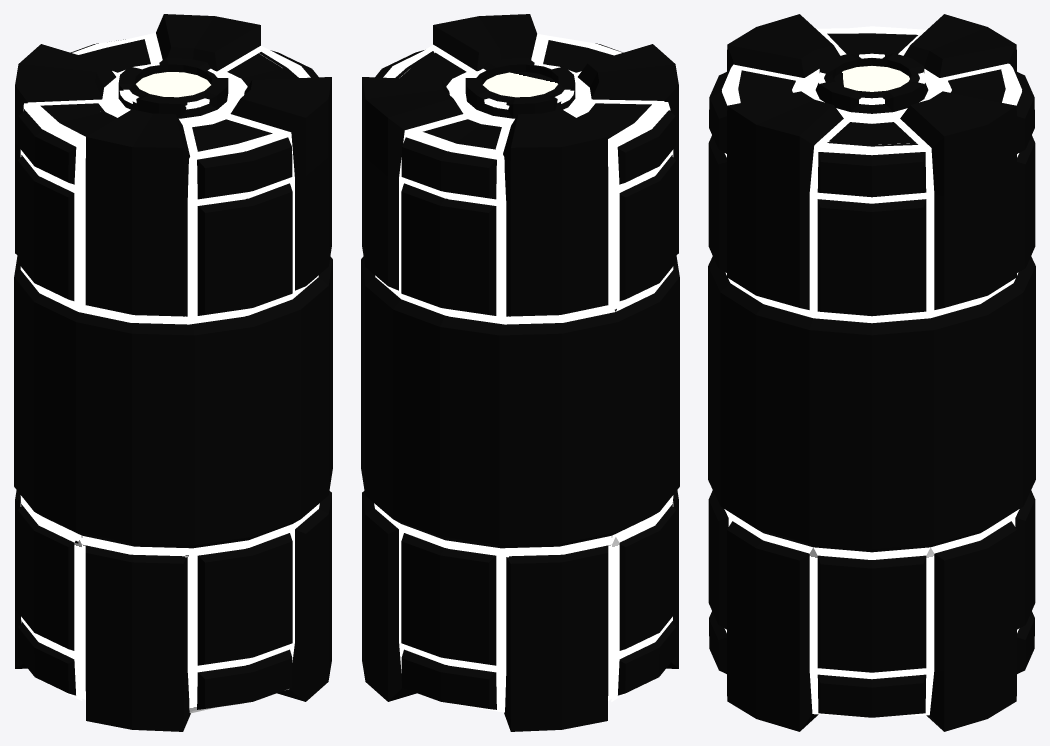
Rendered from bypass6.fbx.
3 views of the same model, side by side, from view 1: azimuth 30°, elevation 25°; view 2: azimuth 150°, elevation 25°; view 3: azimuth 270°, elevation 25° (orthographic).
Visible parts, largest first — view 1: SciFI C2, neon016; view 2: SciFI C2, neon016; view 3: SciFI C2, neon016.
Part boxes in pixels (box(x1,y1,x2,y2)): SciFI C2: box(14, 14, 332, 731); neon016: box(20, 33, 286, 713); SciFI C2: box(361, 14, 679, 731); neon016: box(401, 34, 673, 712); SciFI C2: box(708, 14, 1035, 731); neon016: box(722, 26, 1021, 146).
Bounding box in the file's own units: 72.51 × 145 × 72.51.
